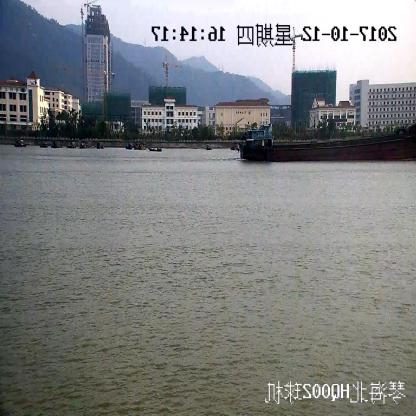Bulk Carrier: (239, 121, 415, 162)
